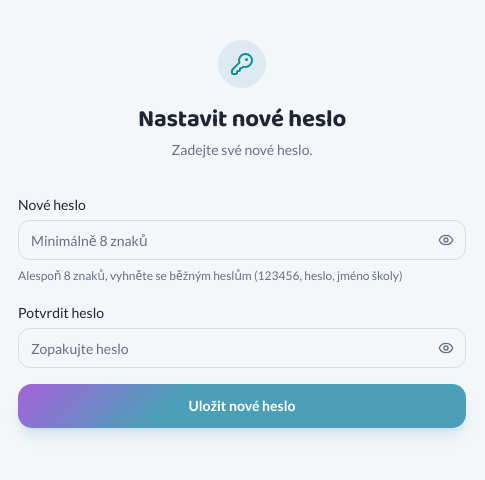
ResetHeslo › běžné heslo odmítne lokálně bez volání funkce
In the password field labelled "Nové heslo": (242, 240) [18,220,466,260], type "heslo123"
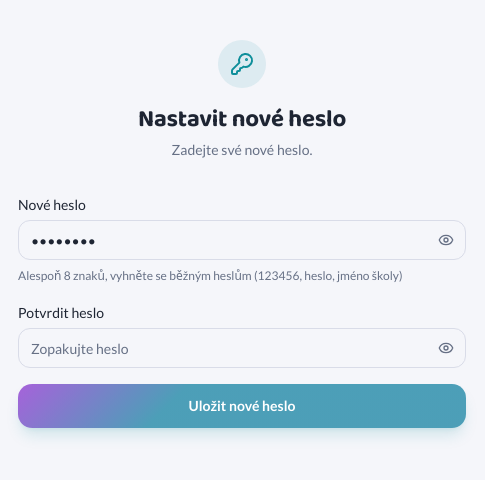
In the password field labelled "Potvrdit heslo": (242, 348) [18,328,466,368], type "heslo123"
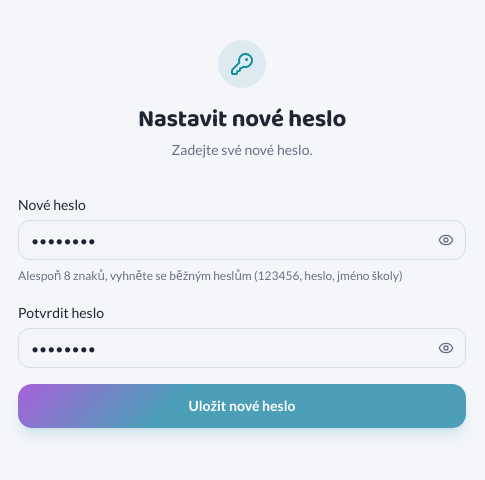
Click the button "Uložit nové heslo": (242, 406) [18,384,466,428]
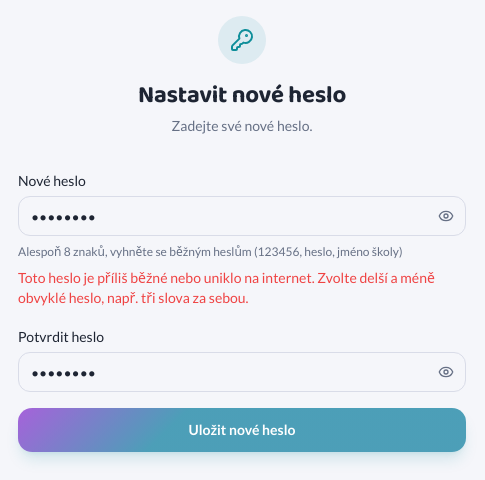
Check: the message shows "Toto heslo je příliš běžné nebo uniklo na internet. Zvolte delší a méně obvyklé heslo, např. tři slova za sebou.", box [18,269,435,306]
